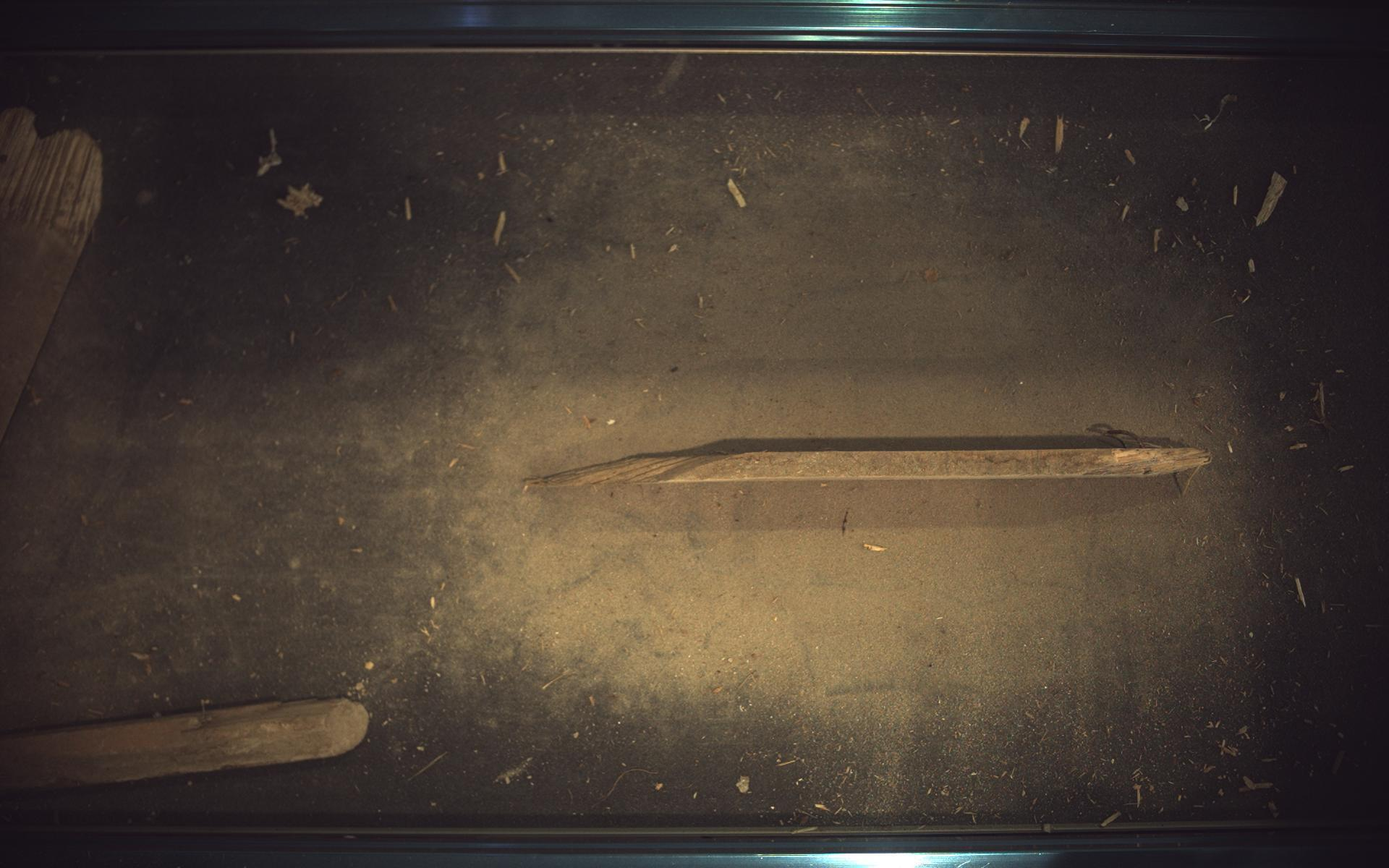wood: (525, 425, 1214, 489)
